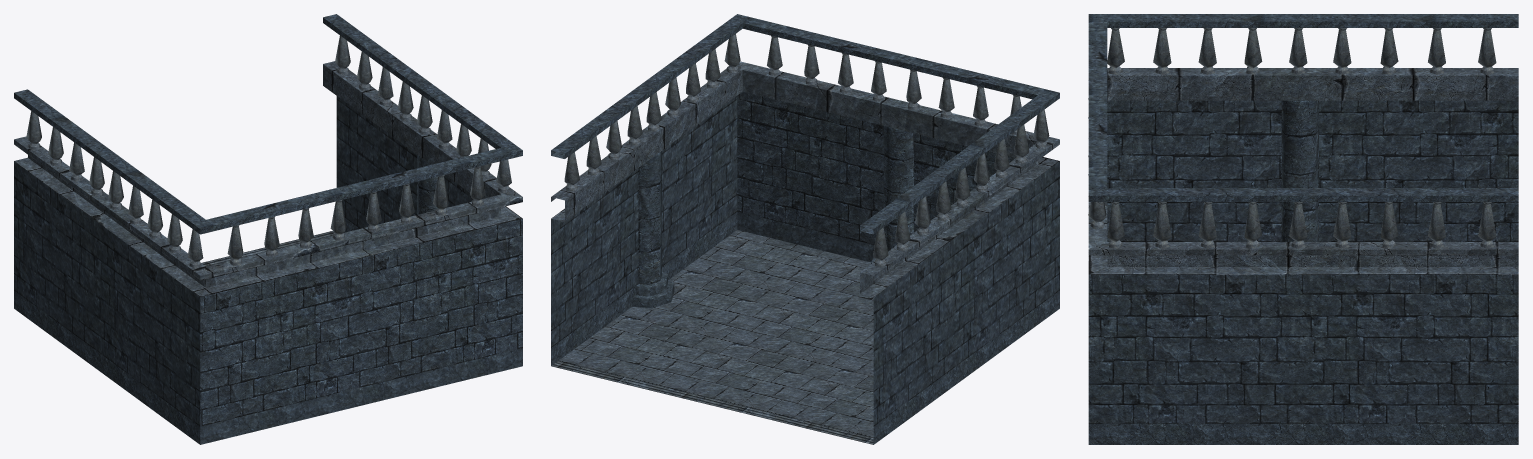
File: DownFloor_end.FBX
3 views of the same model, side by side, from view 1: azimuth 30°, elevation 25°; view 2: azimuth 150°, elevation 25°; view 3: azimuth 270°, elevation 25° (orthographic). The views are drawn at different scales.
Parts seen in each view (by area): view 1: DownFloor_end; view 2: DownFloor_end; view 3: DownFloor_end.
Boxes of the visible parts, box(x1,y1,x2,y2) form: DownFloor_end: box(14, 14, 522, 444); DownFloor_end: box(551, 14, 1059, 444); DownFloor_end: box(1088, 14, 1518, 444).
Size of the model in its own units: 91.9 by 58.73 by 91.96.
